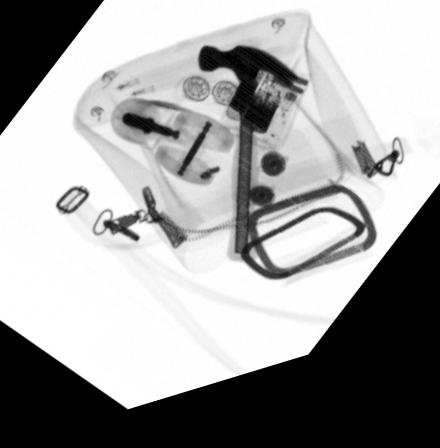Hammer: (197, 56, 298, 275)
